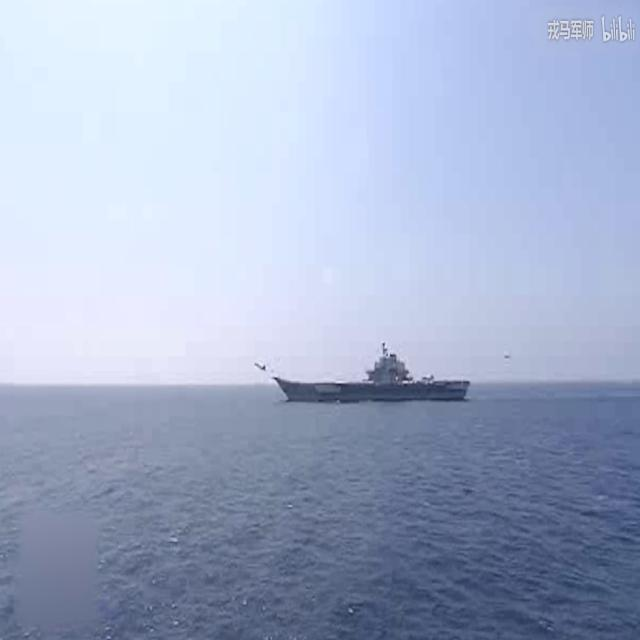navalvessels: (276, 338, 476, 410)
